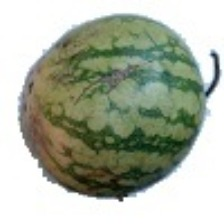watermelon: (22, 9, 157, 207)
